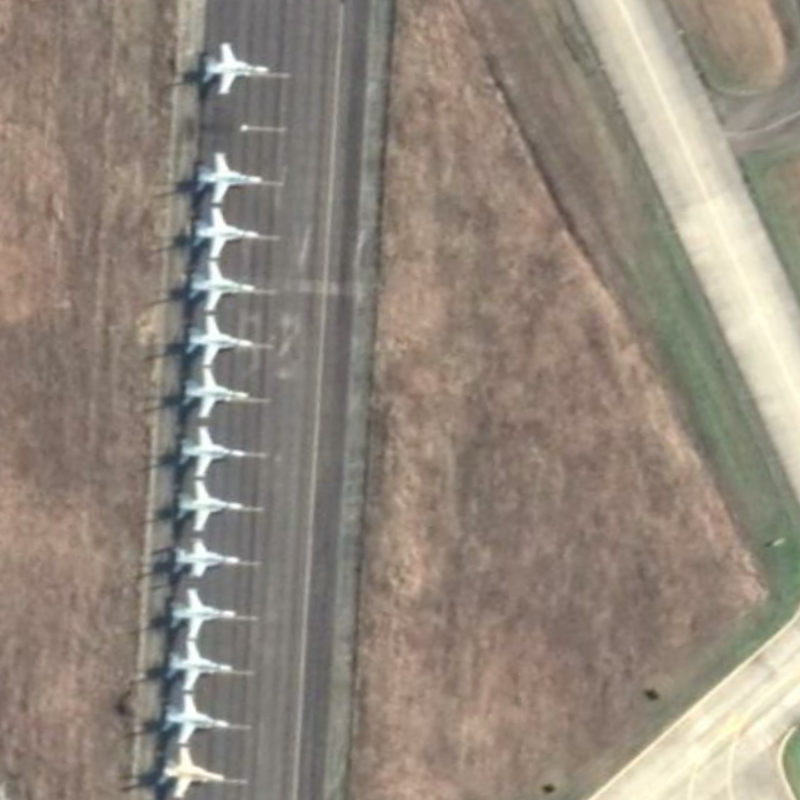A16: (191, 143, 265, 207), (197, 36, 271, 98), (179, 311, 254, 369), (171, 478, 246, 536), (152, 741, 229, 797), (174, 423, 247, 481), (164, 584, 238, 641), (181, 259, 257, 314), (158, 690, 230, 747), (178, 366, 251, 422), (187, 206, 262, 260), (164, 639, 235, 694), (171, 535, 241, 584)
